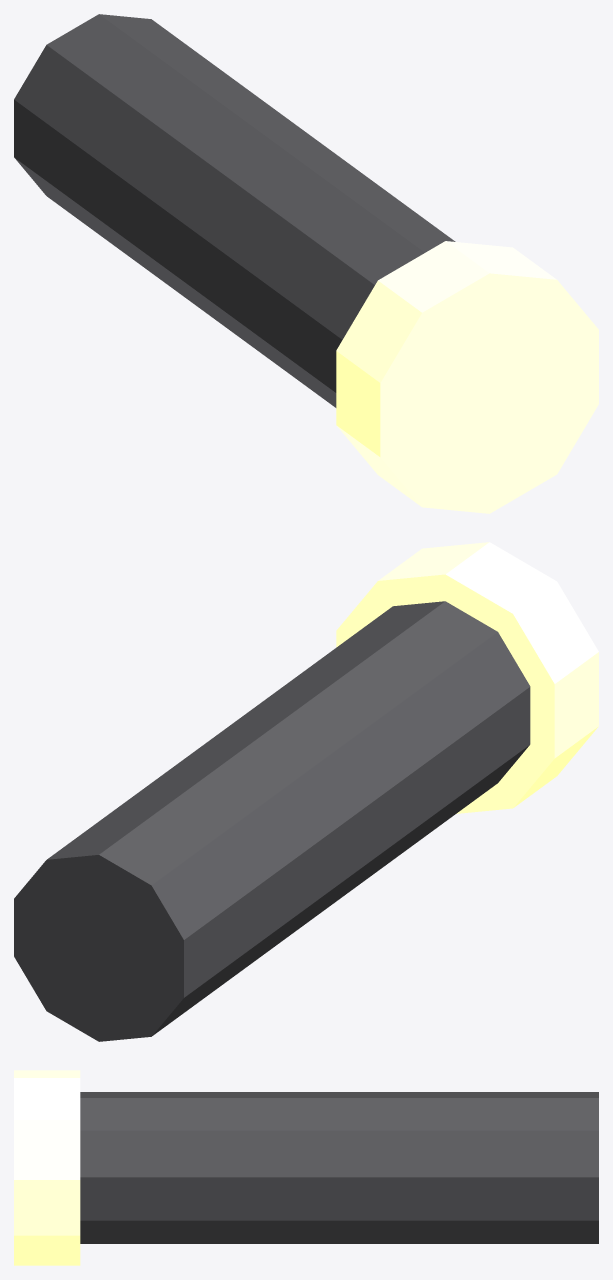
File: barrel.glb
The picture shows the model from 3 angles, top to bottom: view 1: azimuth 30°, elevation 25°; view 2: azimuth 150°, elevation 25°; view 3: azimuth 270°, elevation 25°; orthographic projection. The views are drawn at different scales.
Visible parts, largest first — view 1: barrel, muzzle; view 2: barrel, muzzle; view 3: barrel, muzzle.
Part boxes in pixels (bbox=[...]): barrel: bbox=[14, 14, 455, 407]; muzzle: bbox=[336, 241, 598, 513]; barrel: bbox=[14, 601, 530, 1041]; muzzle: bbox=[336, 542, 598, 813]; barrel: bbox=[80, 1092, 598, 1243]; muzzle: bbox=[14, 1070, 80, 1265].
Size of the model in its own units: 0.1712 by 0.18 by 0.53.
